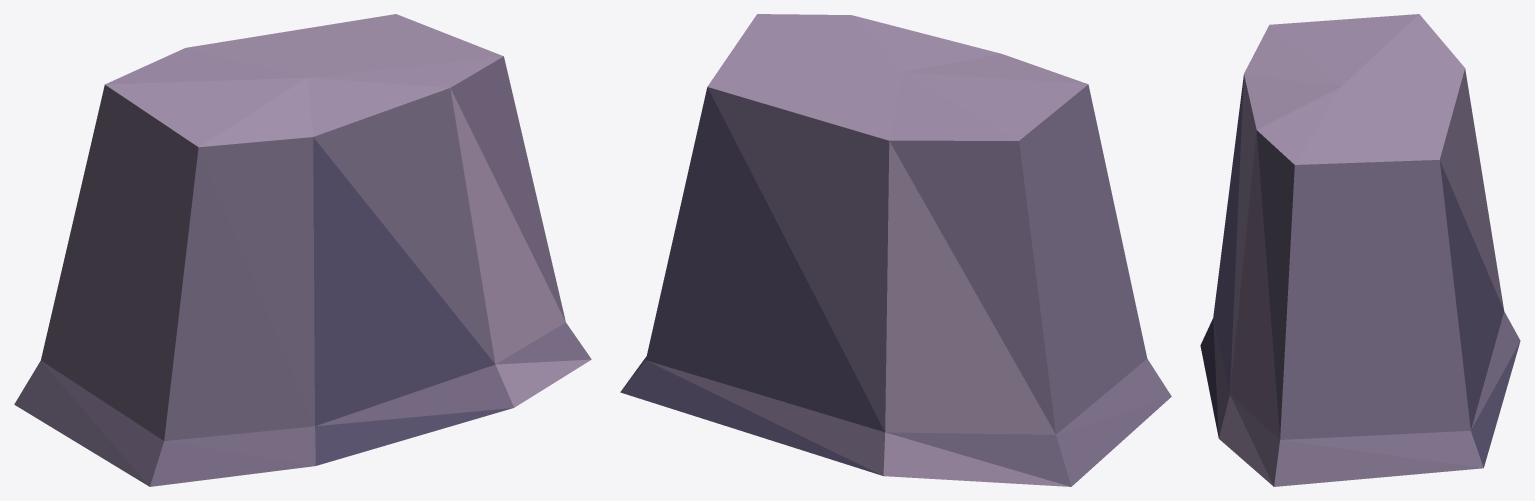
3 renders of one model, left to right at view 1: azimuth 30°, elevation 25°; view 2: azimuth 150°, elevation 25°; view 3: azimuth 270°, elevation 25°, orthographic. The views are drawn at different scales.
Parts seen in each view (by area): view 1: 瀑布折面岩台.001; view 2: 瀑布折面岩台.001; view 3: 瀑布折面岩台.001.
Part boxes in pixels (x1,y1,x2,y2): 瀑布折面岩台.001: (14, 14, 591, 486); 瀑布折面岩台.001: (620, 14, 1171, 486); 瀑布折面岩台.001: (1200, 14, 1520, 486).
Size of the model in its own units: 1.52 by 0.9578 by 0.957.
